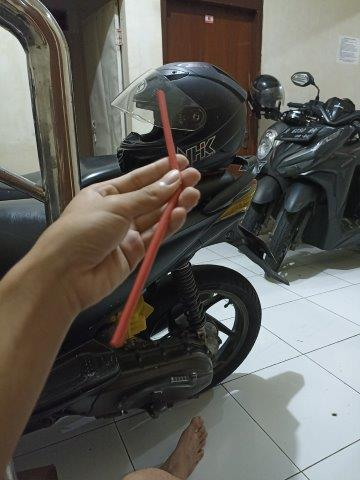sedotan: (112, 90, 182, 340)
